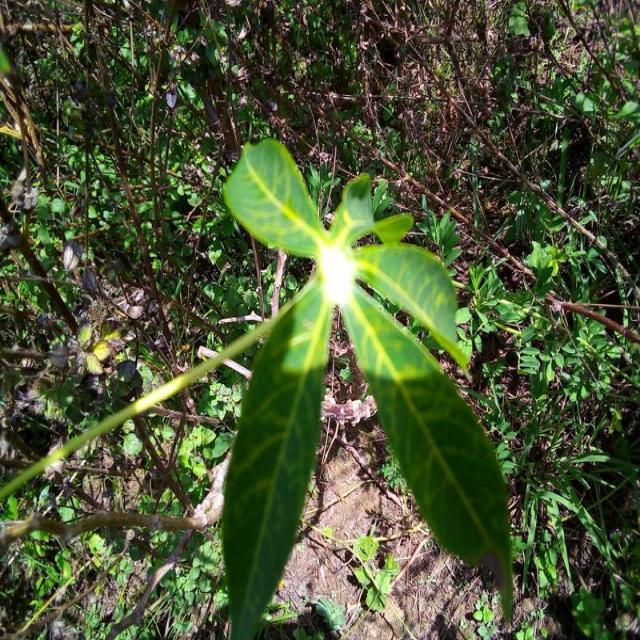cassava leaf: (216, 136, 514, 638), (338, 279, 514, 620), (220, 270, 334, 639)
